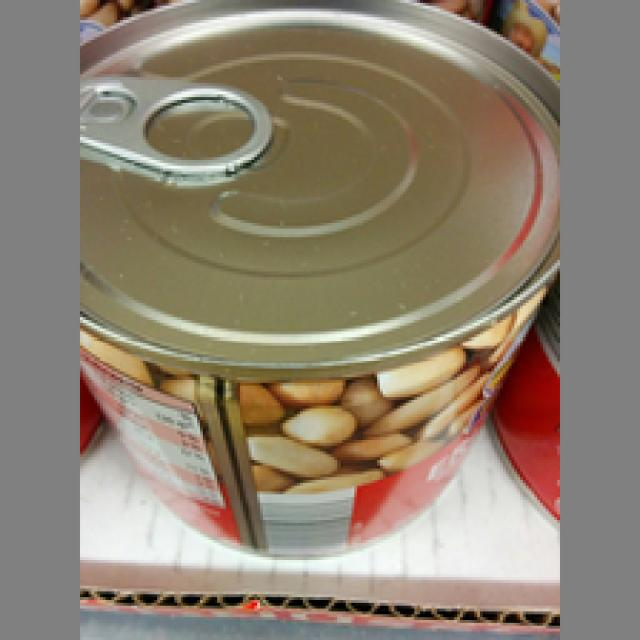groceries: (77, 0, 557, 551)
